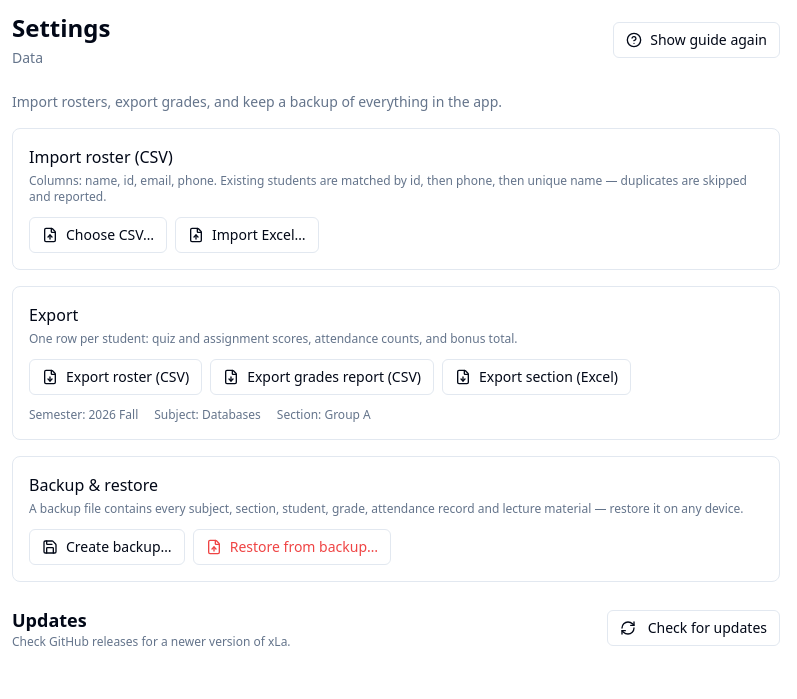
Test: Settings › exports the section to Excel at a user-chosen path
Click the button "Export section (Excel)": (536, 377) top-left (442, 359), bottom-right (631, 395)
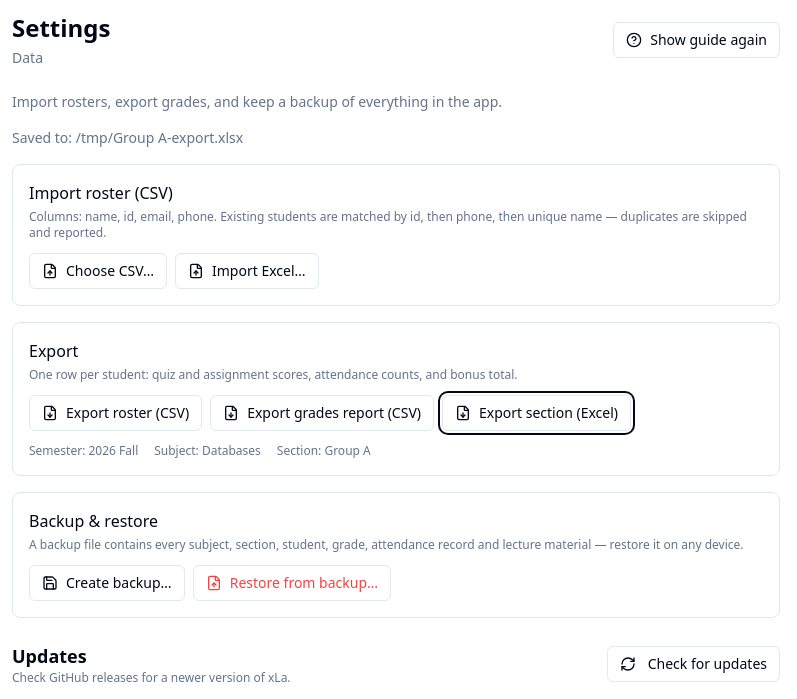
Result: the text "Saved to: /tmp/Group A-export.xlsx" is shown at top-left (12, 128), bottom-right (243, 147)
